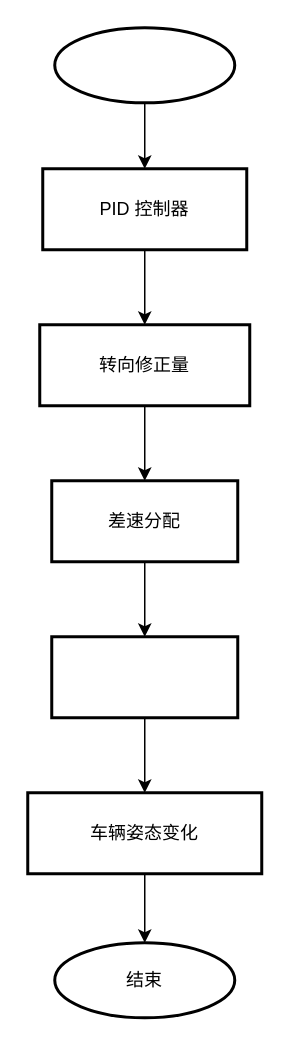
This 288x1044 diagram has some shape labels left out. Here are the shapes that lost their labels. From the top down, the box of each, then its label:
(52, 26, 236, 104): 开始
(50, 634, 238, 718): 电机输出
